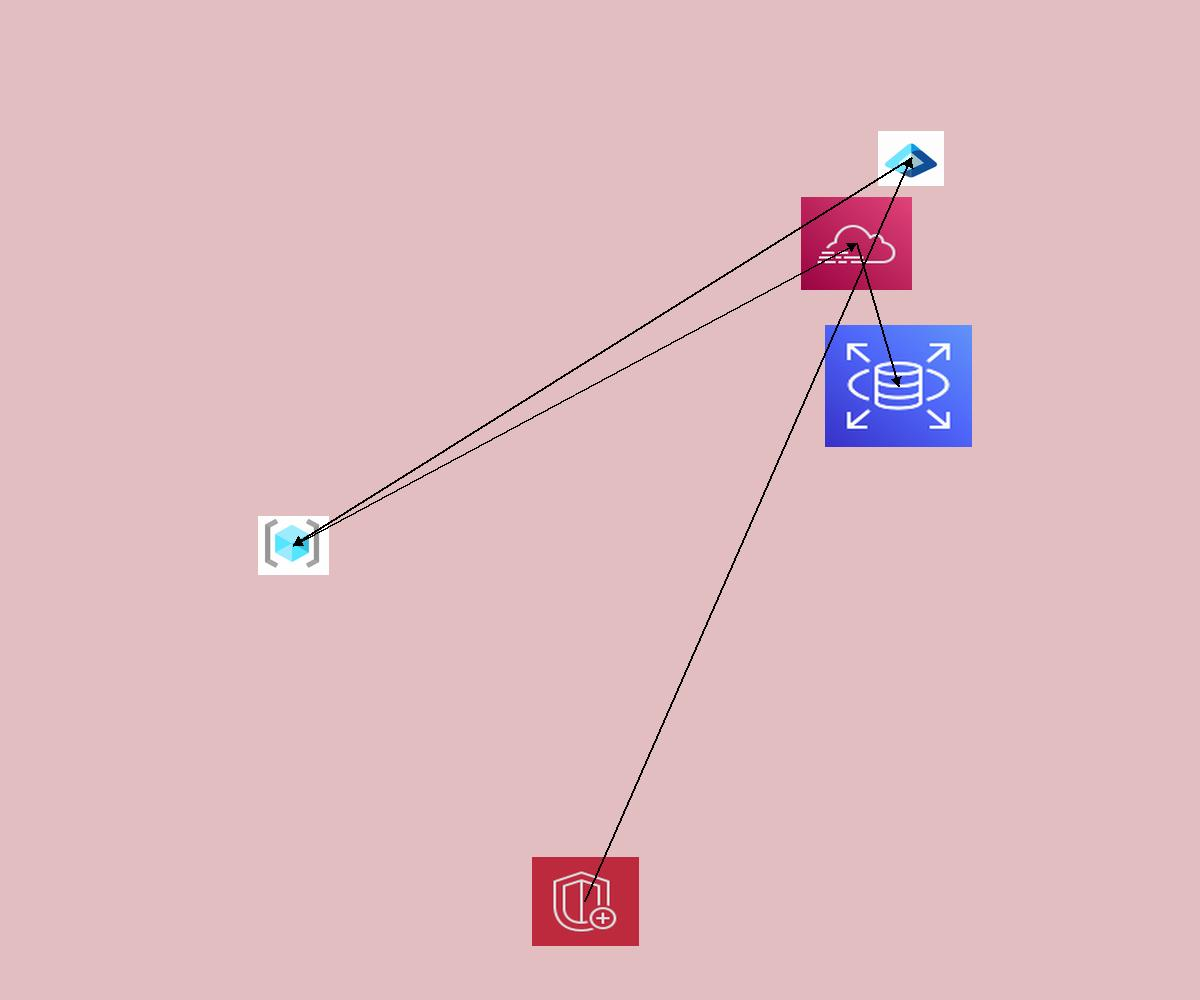AWS-CloudTrail: (801, 197, 912, 290)
AWS-RDS: (825, 325, 972, 447)
AWS-Shield: (532, 857, 639, 946)
Azure_microsoft_entra: (878, 131, 944, 186)
Azure_resource_group: (258, 516, 329, 575)
